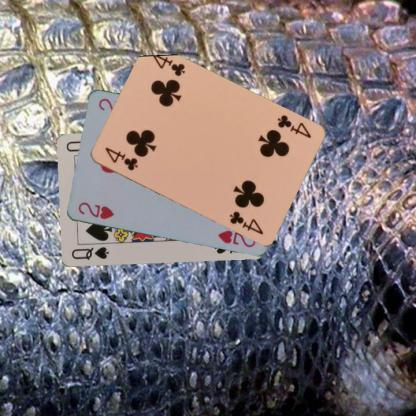2h: (75, 199, 115, 221)
4c: (274, 112, 312, 140), (102, 145, 139, 172)
Qs: (69, 244, 110, 262)
